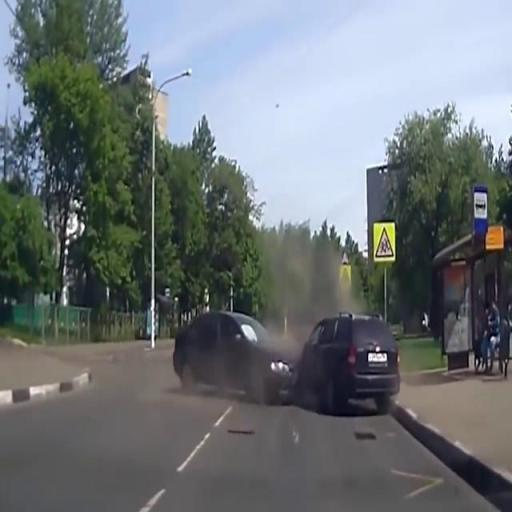Car: (174, 308, 301, 406), (292, 310, 402, 416)
Minor Accident: (162, 292, 409, 418)
